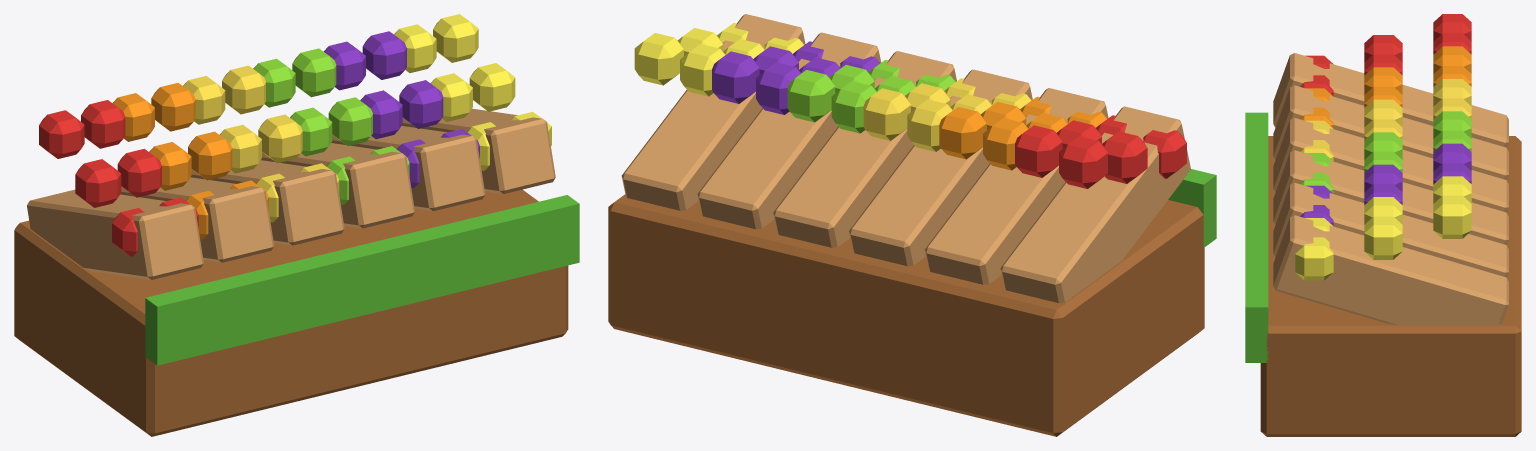
The model's file is ProduceStand.fbx.
The picture shows the model from 3 angles, left to right: view 1: azimuth 30°, elevation 25°; view 2: azimuth 150°, elevation 25°; view 3: azimuth 270°, elevation 25°; orthographic projection. The views are drawn at different scales.
Visible parts, largest first — view 1: ProduceStand; view 2: ProduceStand; view 3: ProduceStand.
Part boxes in pixels (<box>): ProduceStand: <box>14,14,579,436</box>; ProduceStand: <box>608,14,1216,436</box>; ProduceStand: <box>1245,14,1521,436</box>.
Size of the model in its own units: 6.1 by 3.35 by 3.6.
1 material, 1 textured.
